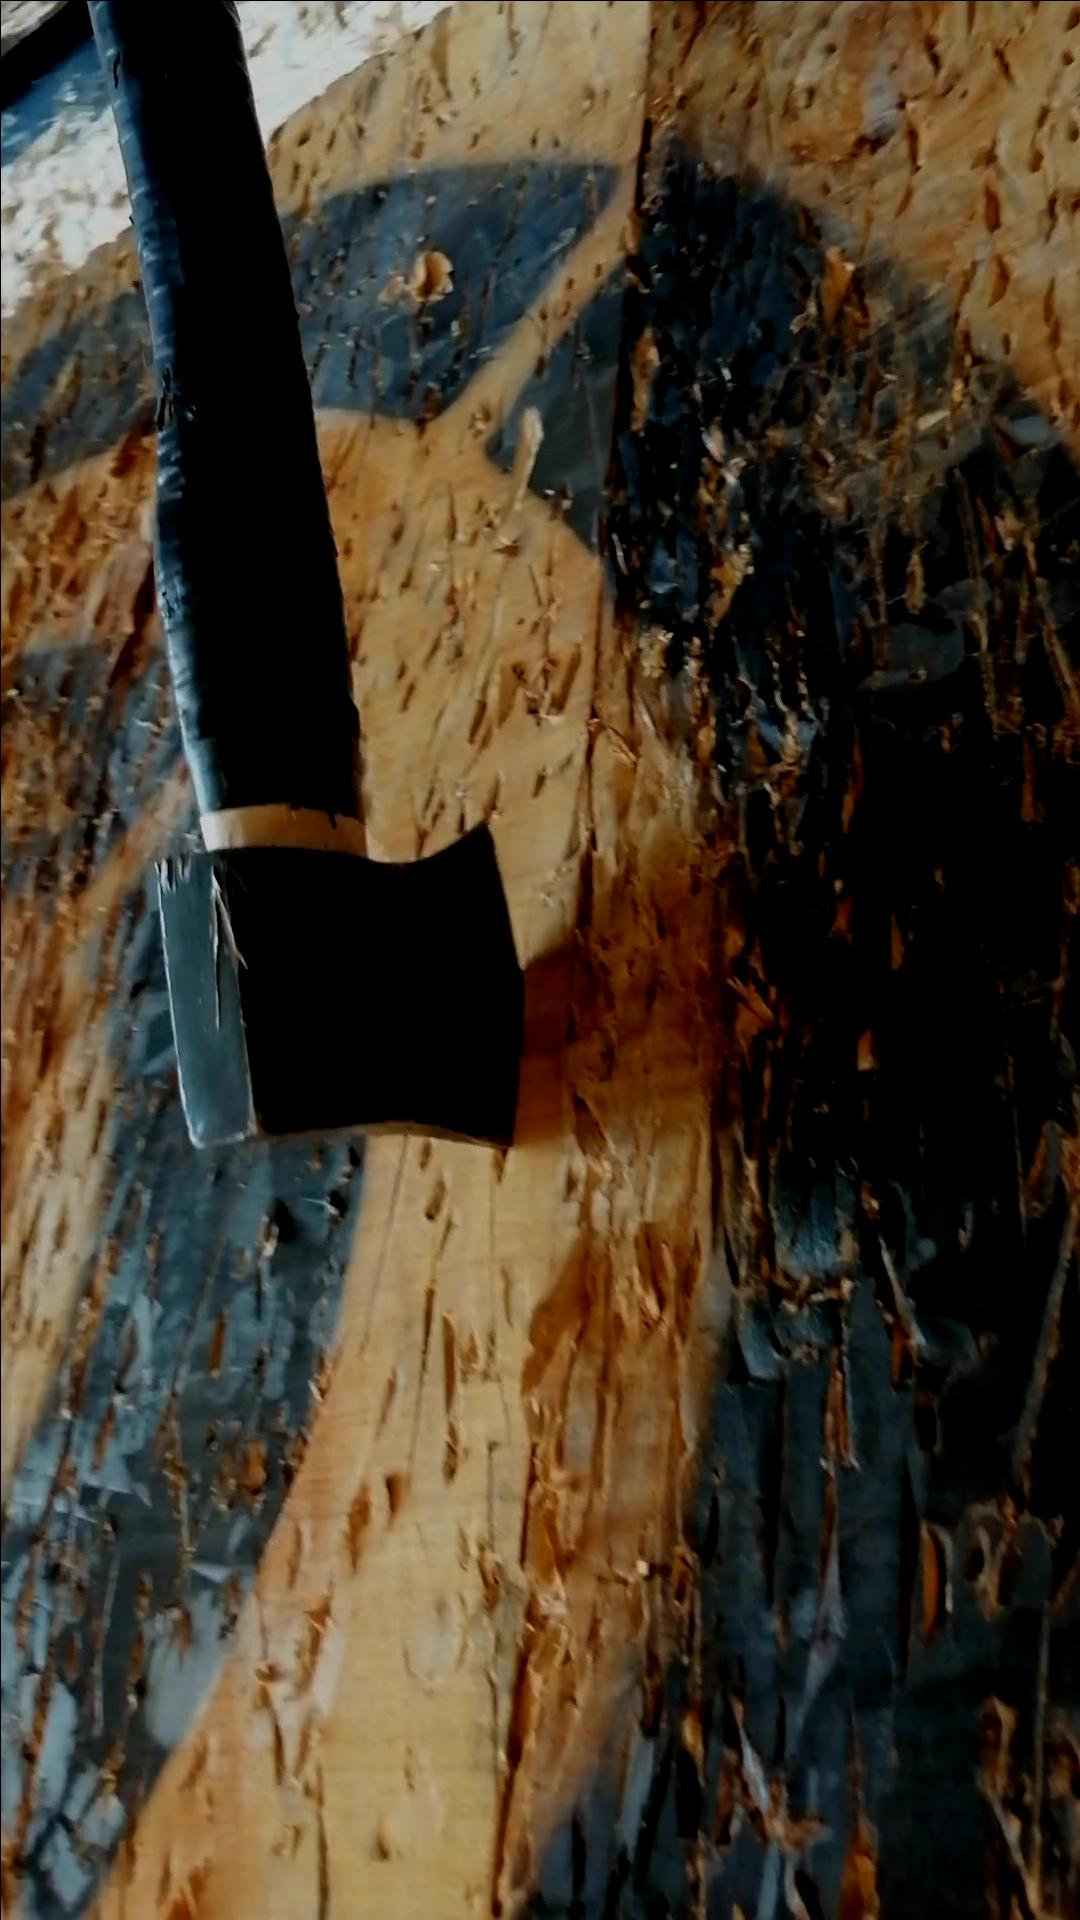Hand Axe: (156, 818, 531, 1155)
